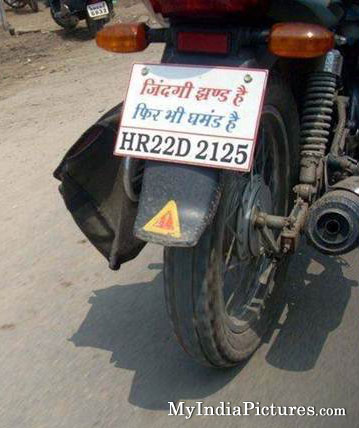number_plate: (112, 56, 273, 178)
